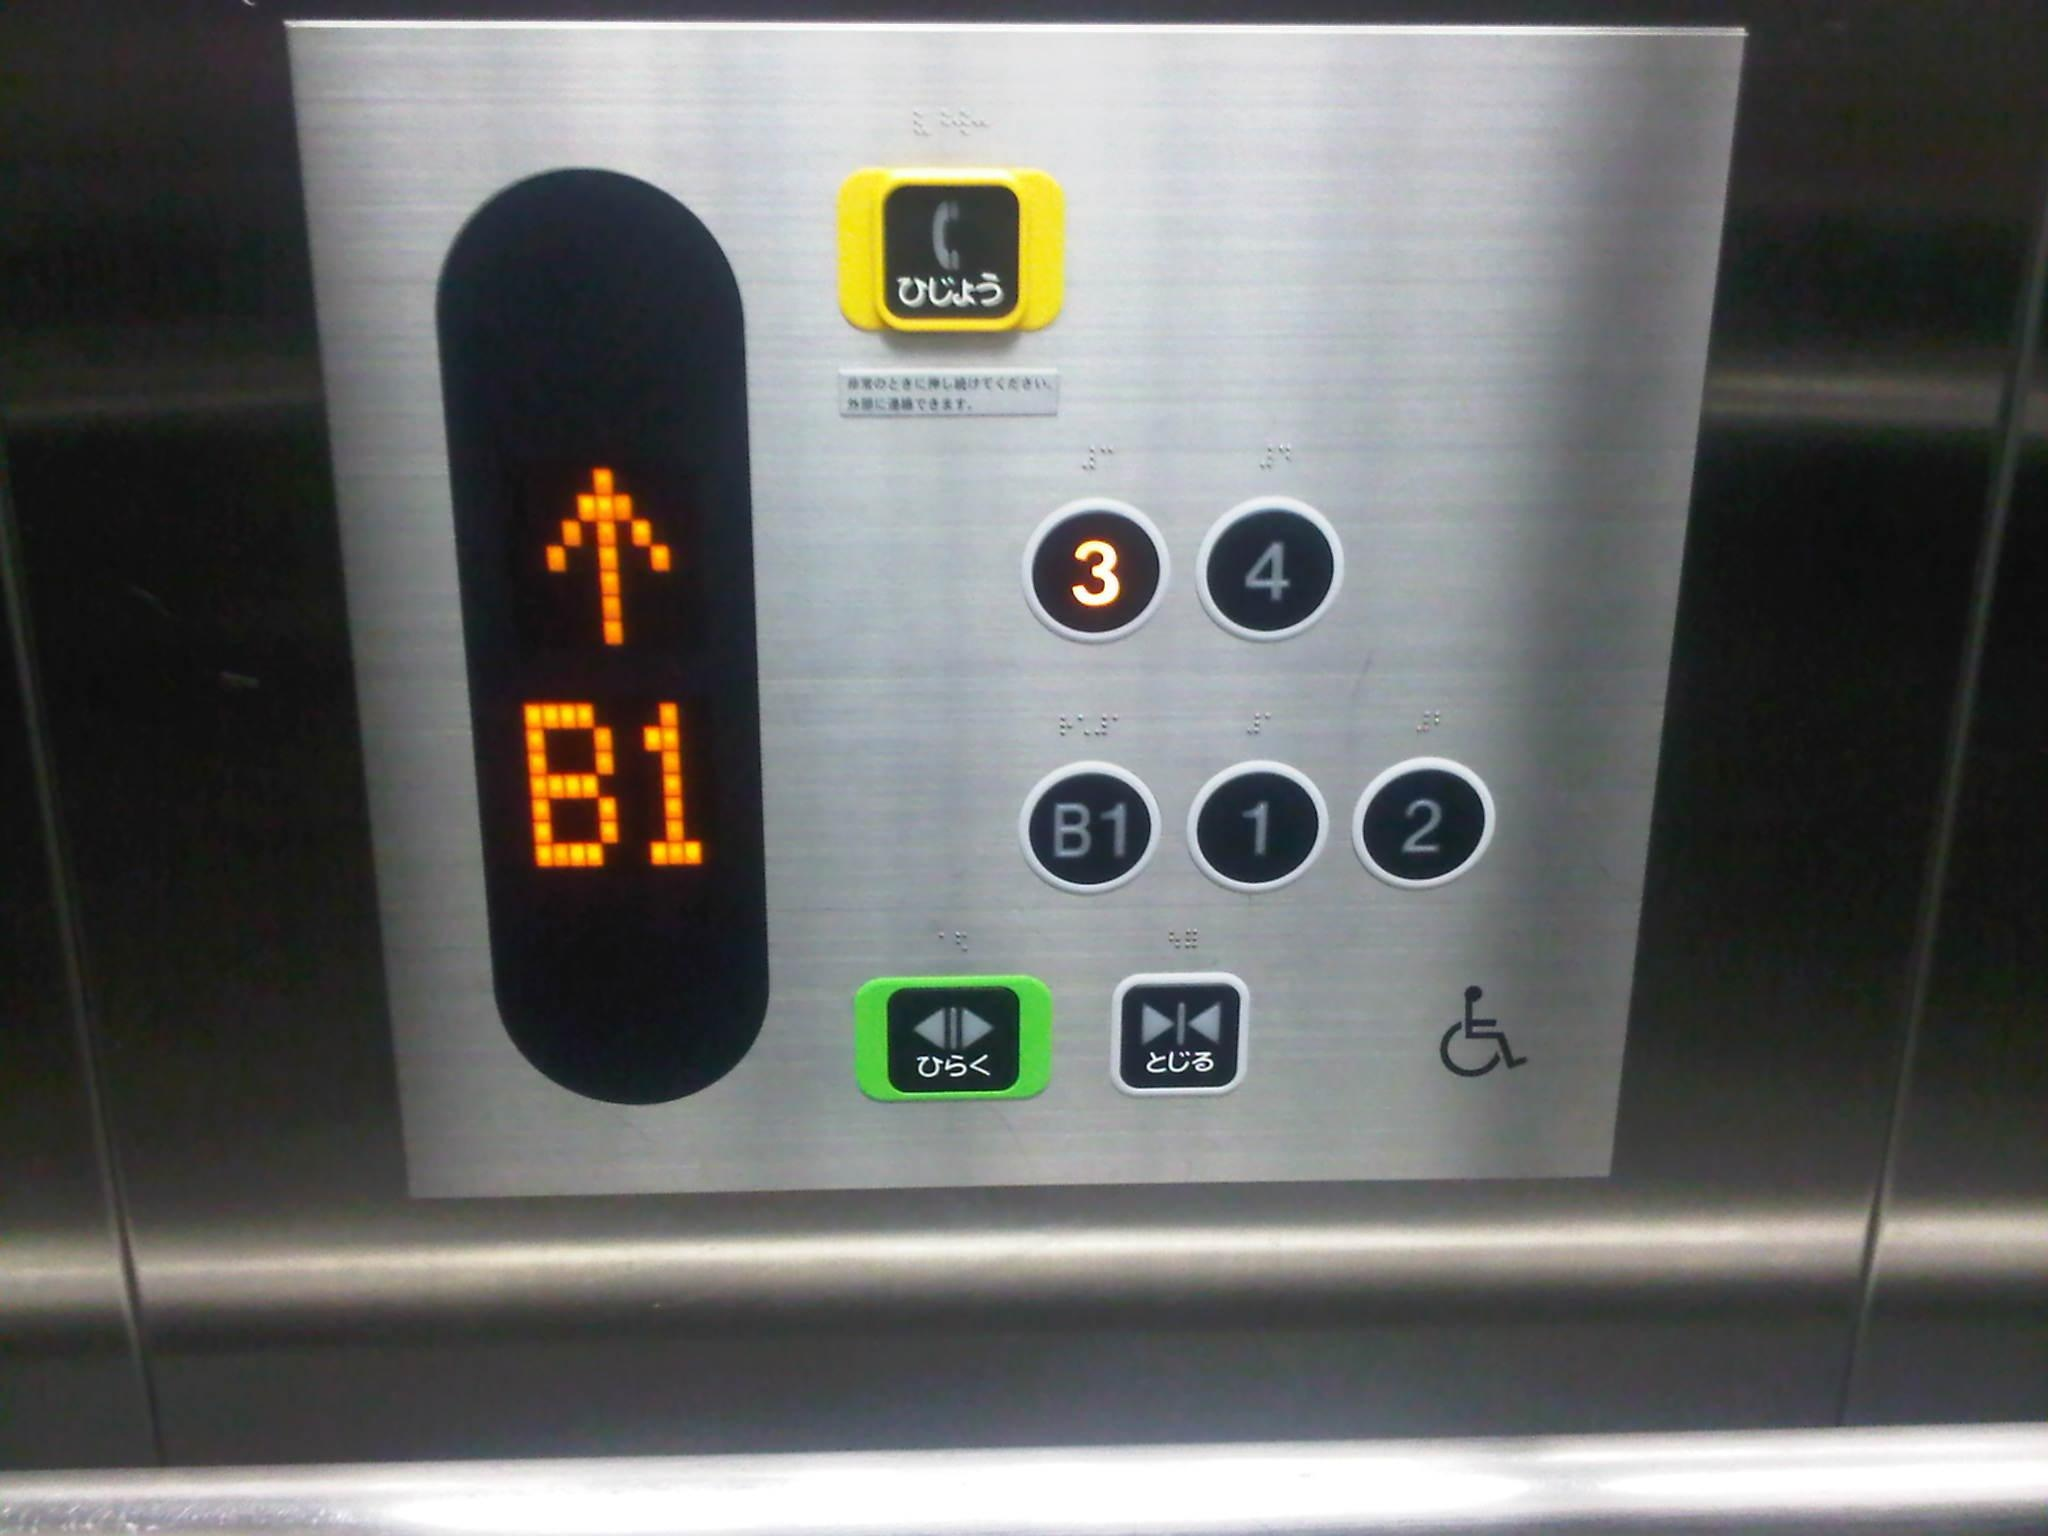1: (1184, 758, 1326, 894)
2: (1351, 755, 1496, 891)
3: (1019, 495, 1171, 647)
4: (1188, 492, 1343, 644)
B1: (1014, 760, 1164, 900)
CH: (1422, 978, 1542, 1086)
call: (835, 169, 1066, 342)
close: (1111, 973, 1250, 1096)
led: (424, 157, 776, 1115)
open: (850, 978, 1055, 1100)
